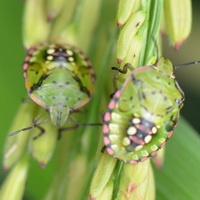insect: (103, 57, 183, 163), (23, 44, 94, 126)
